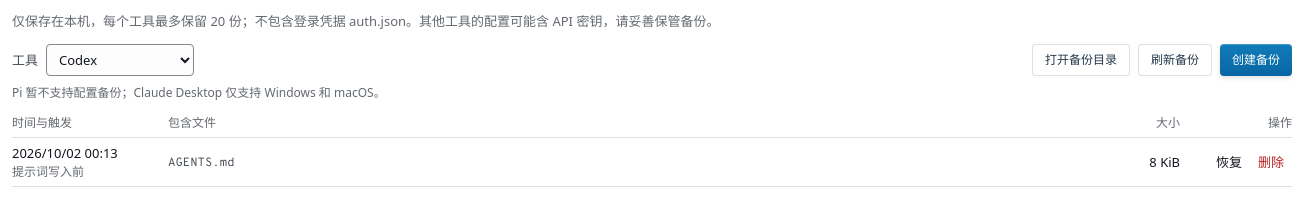
Scenario: Live backup panel › blocks duplicate opens and backup mutations until the opener settles
This screenshot has width=1304, height=204.
Expected: the text "AGENTS.md" is shown, [168,154,234,172]
Click the button "打开备份目录": (1081, 60) [1032,44,1130,76]
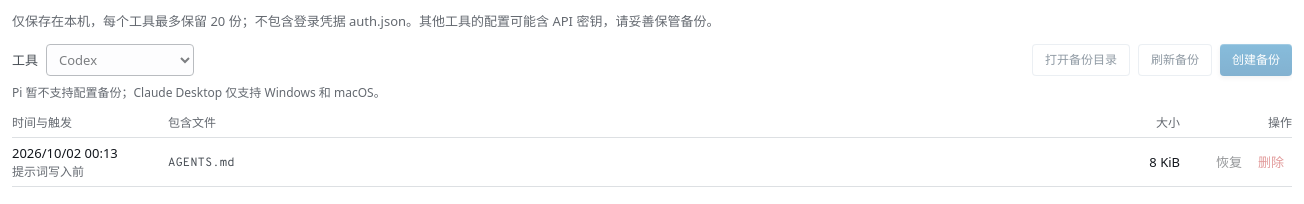
Expected: the button "打开备份目录" is disabled
Expected: the button "创建备份" is disabled, [1220,44,1292,76]
Click the button "打开备份目录": (1081, 60) [1032,44,1130,76]
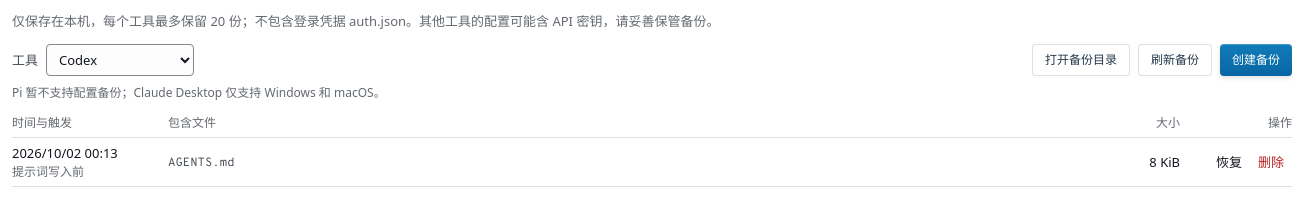
Expected: the button "打开备份目录" is enabled, [1032,44,1130,76]
